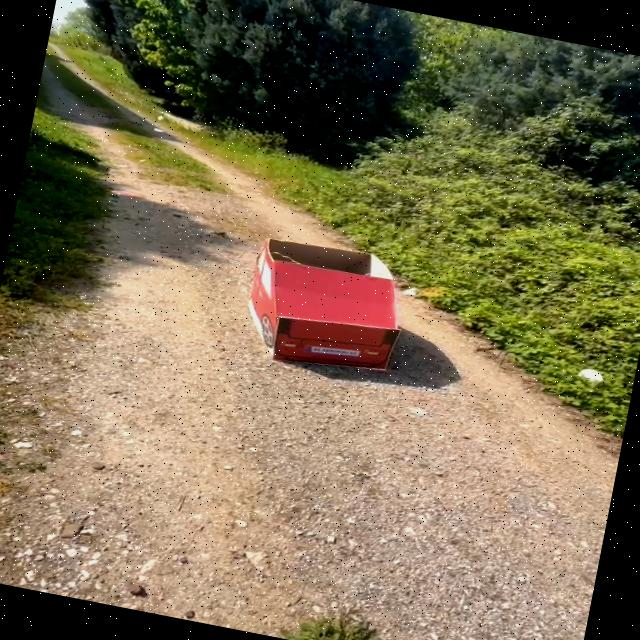red_car: (218, 222, 459, 397)
